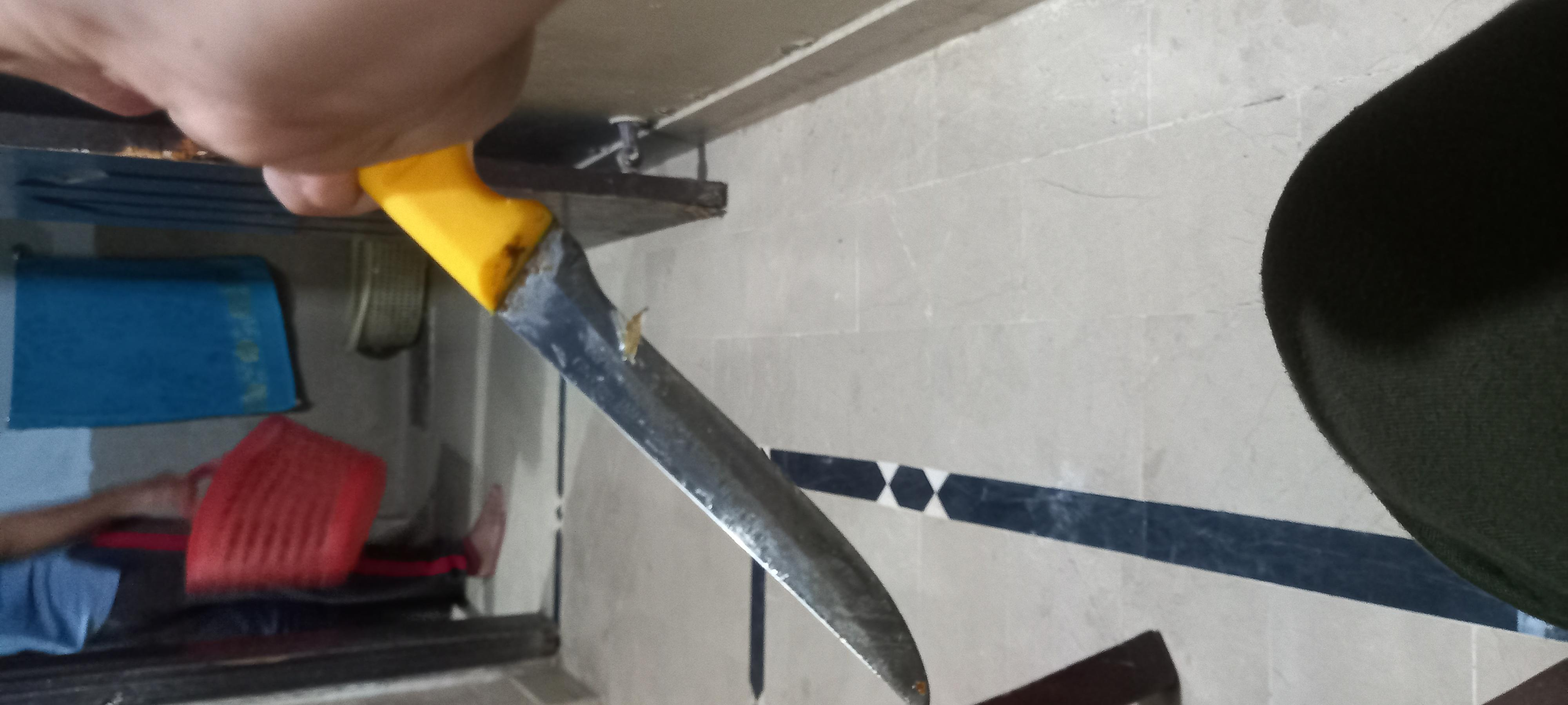knives: (1, 99, 1367, 456)
